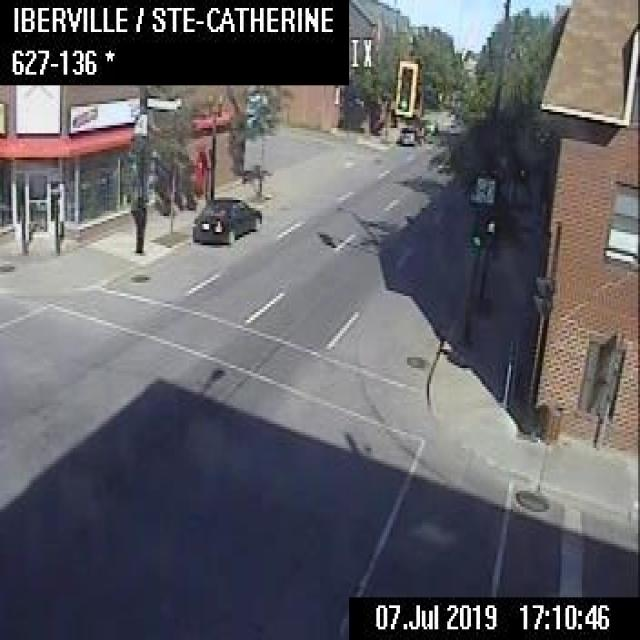vehicle: (191, 192, 262, 243), (398, 125, 418, 144), (421, 116, 436, 133)
